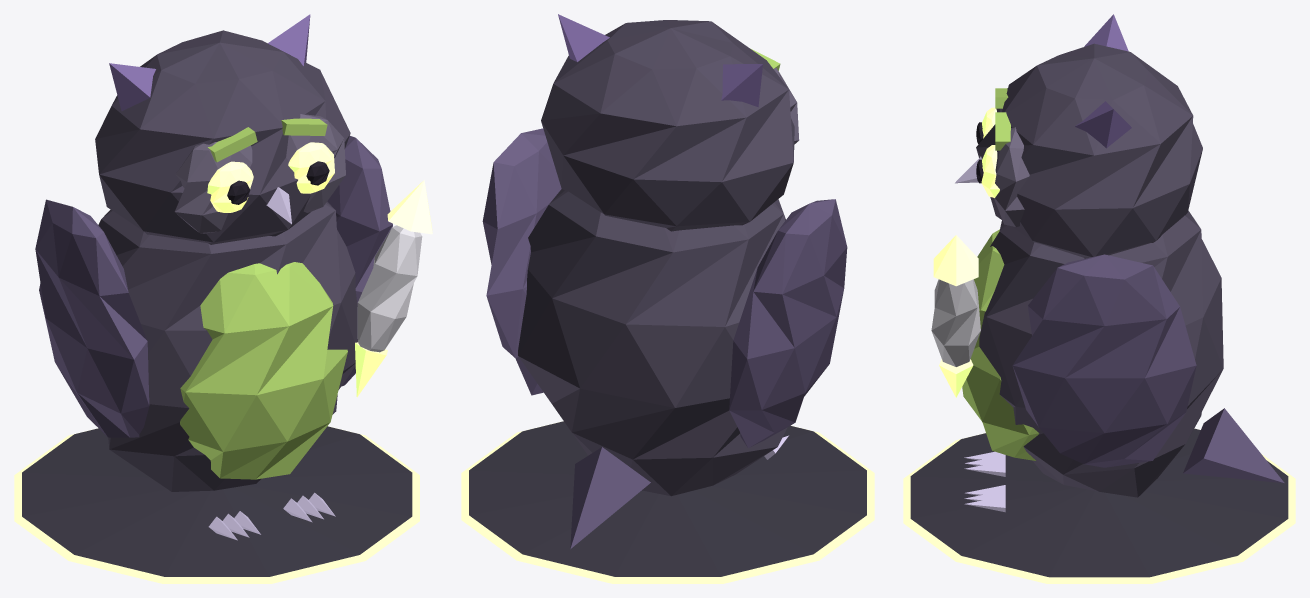
Rendered from owl-landing.glb.
3 renders of one model, left to right at view 1: azimuth 30°, elevation 25°; view 2: azimuth 150°, elevation 25°; view 3: azimuth 270°, elevation 25°, orthographic. The views are drawn at different scales.
Visible parts, largest first — view 1: ADV_Owl; view 2: ADV_Owl; view 3: ADV_Owl.
Boxes of the visible parts, box(x1,y1,x2,y2) form: ADV_Owl: box(14, 14, 432, 583); ADV_Owl: box(461, 14, 874, 583); ADV_Owl: box(903, 14, 1295, 583).
Size of the model in its own units: 1.51 by 1.92 by 1.51.
